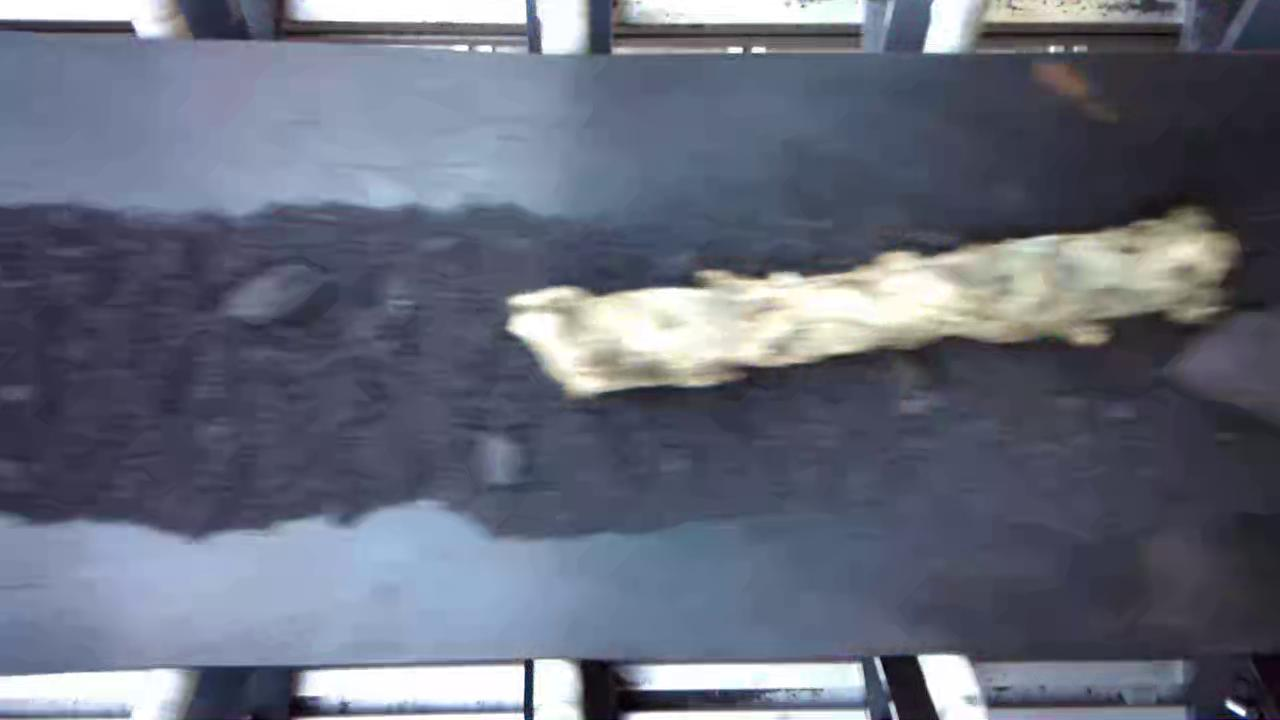conveyor: (1, 59, 1280, 646)
